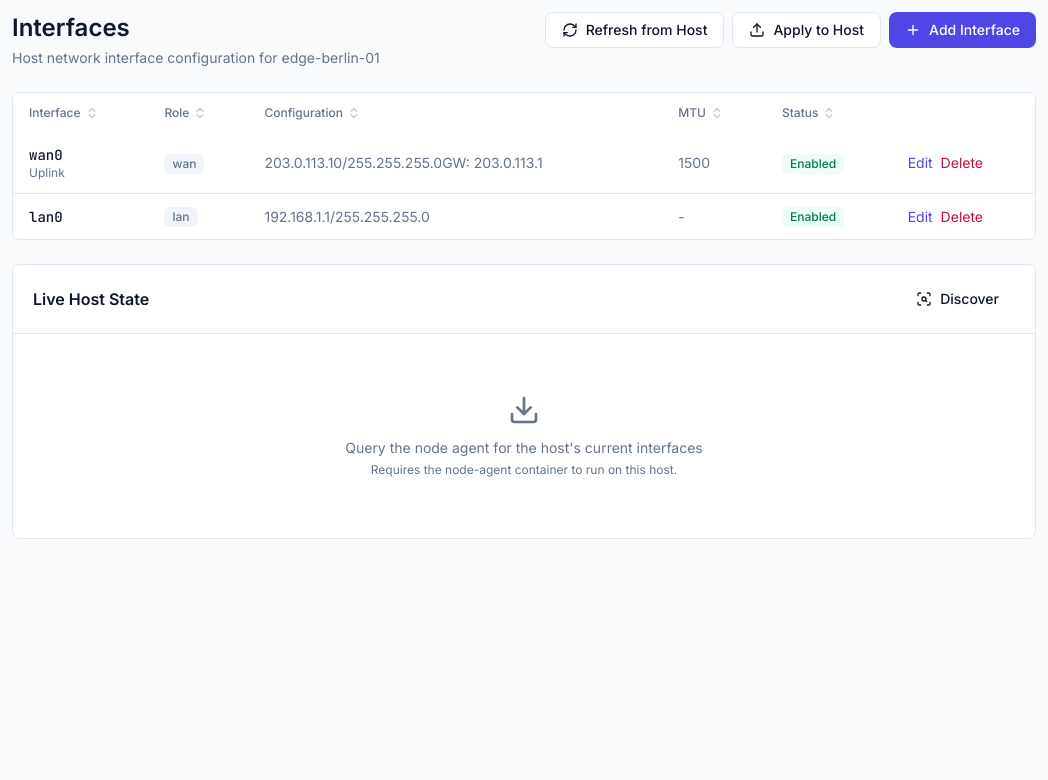
Test: Interfaces › discovers live host state on demand
Expected: the text "Query the node agent for the host's current interfaces" is shown, [345, 438, 703, 458]
Click the button "Discover": (958, 299) [900, 281, 1015, 317]
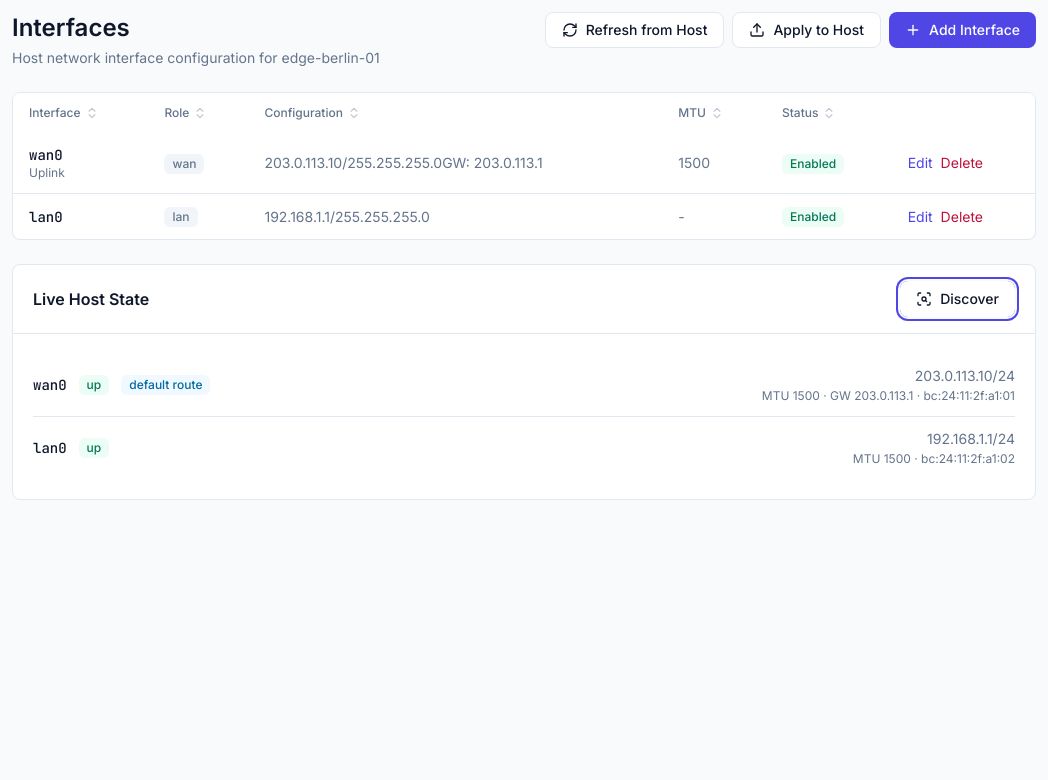
Result: the text "MTU 1500 · GW 203.0.113.1 · bc:24:11:2f:a1:01" is shown at [762, 388, 1015, 404]
Result: the text "default route" is shown at [121, 375, 210, 395]
